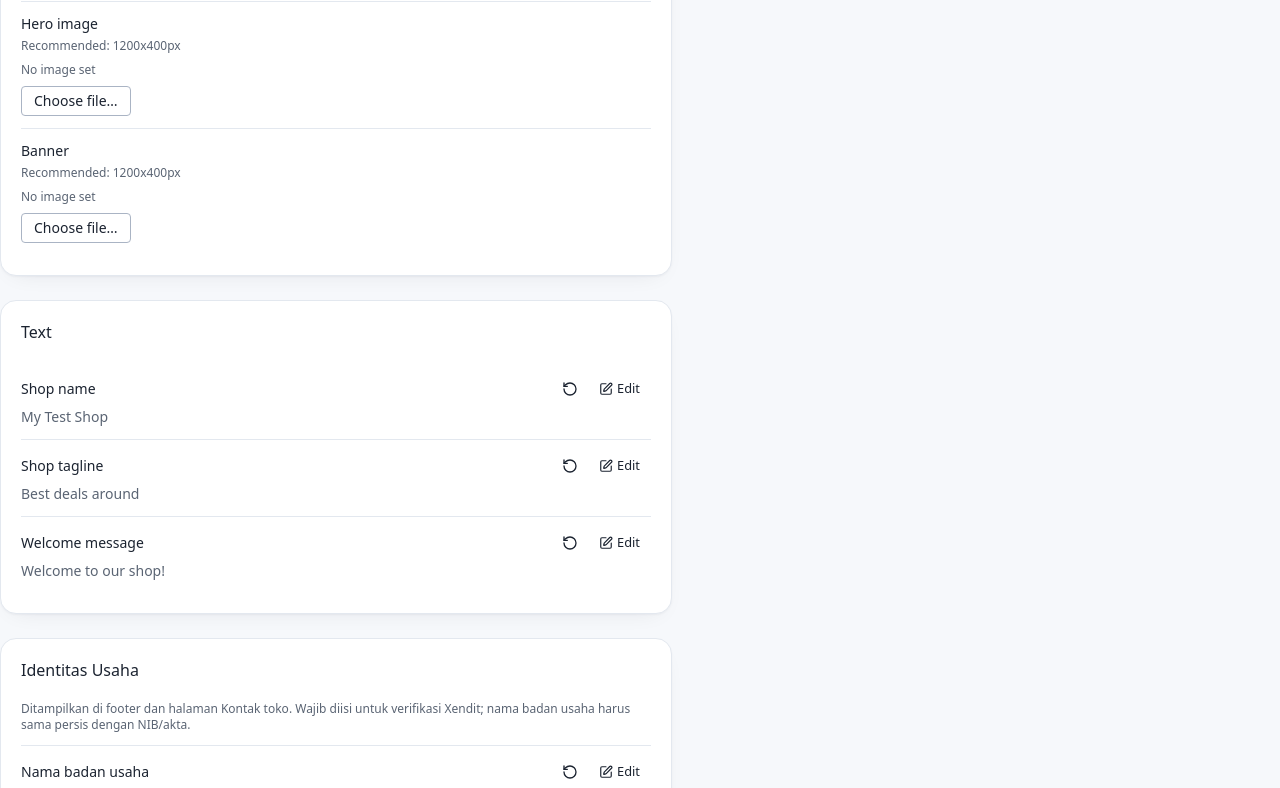
Scenario: BrandingPage › resetting a text field opens a confirmation dialog and shows a checkmark on success
(page scrolled)
Expected: the text "My Test Shop" is shown, [21,406,108,426]
Click the button named "Reset Shop name to default". click: point(570, 388)
box: [556,374,584,402]
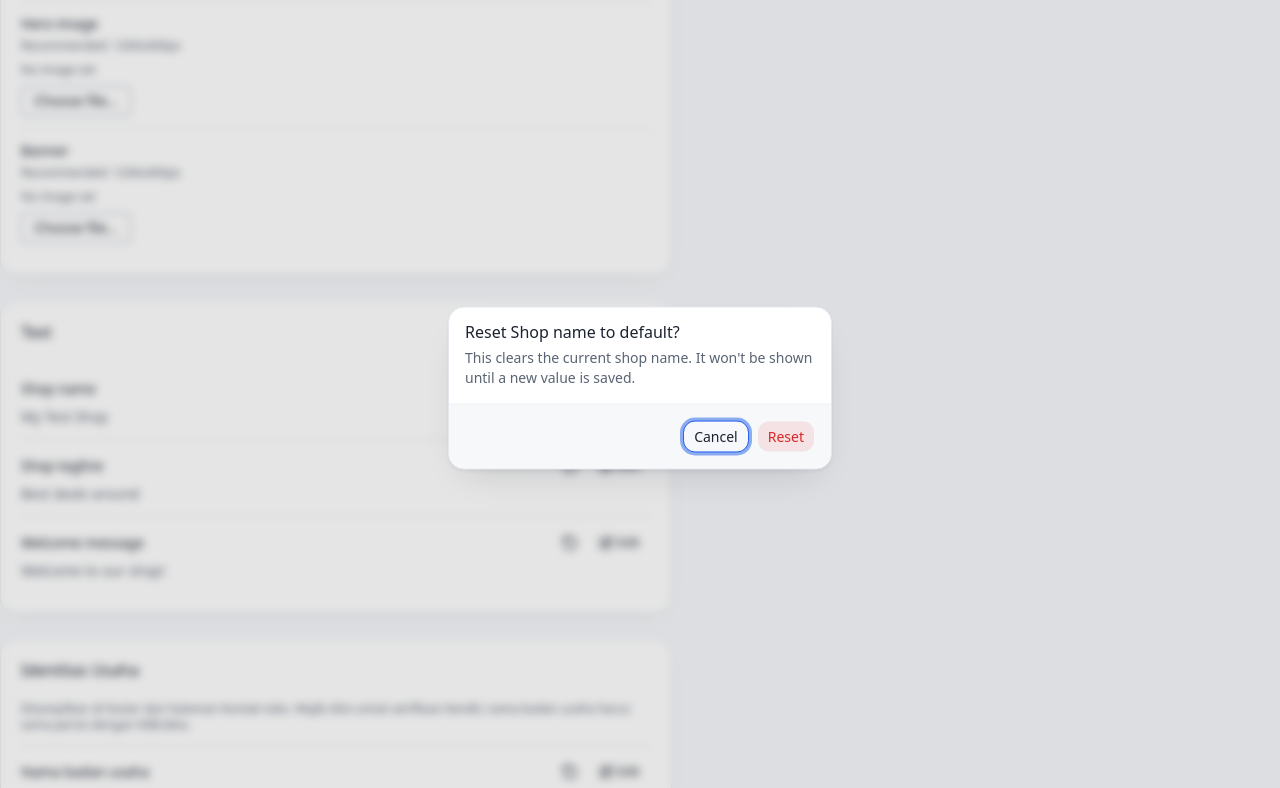
Expected: the heading "Reset Shop name to default?" is shown, [465,320,680,342]
Click the button "Reset". click: point(786, 436)
box: [757,420,815,452]
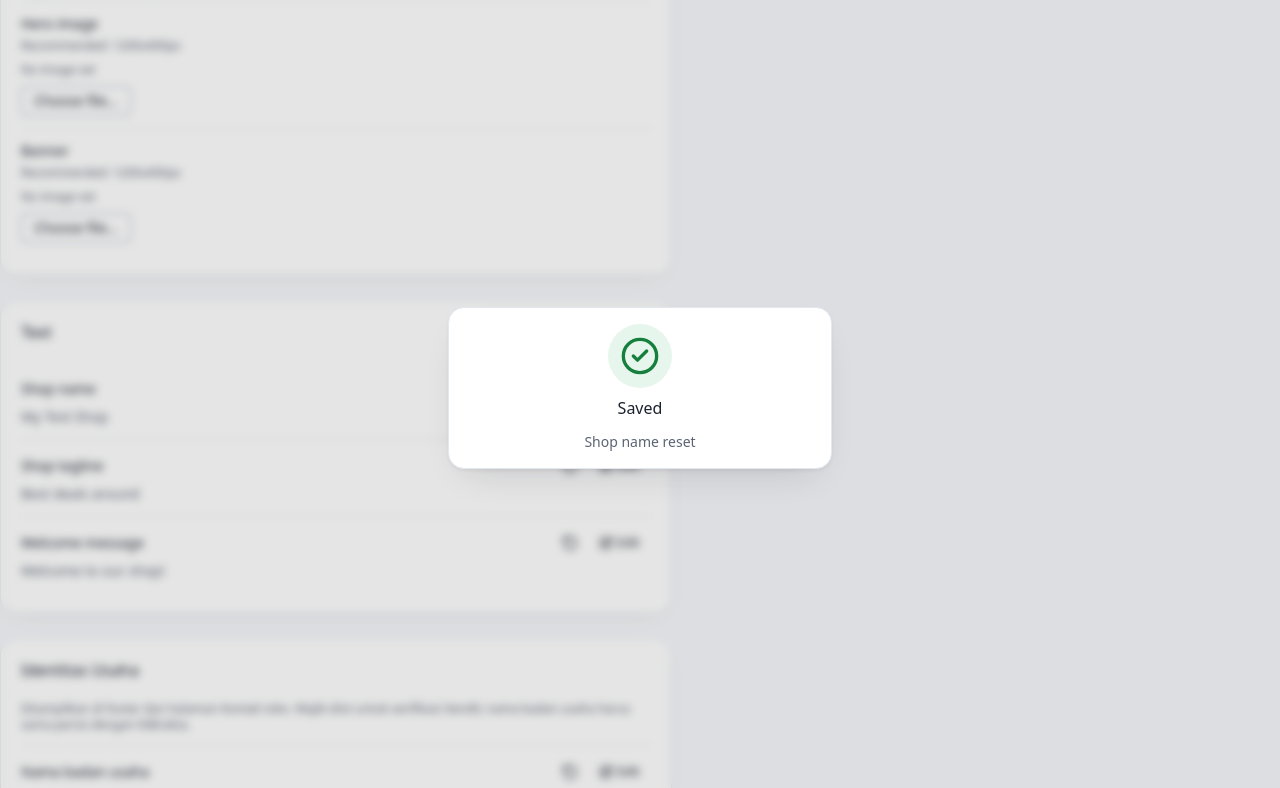
Expected: the text "Shop name reset" is shown, [584,432,696,451]
